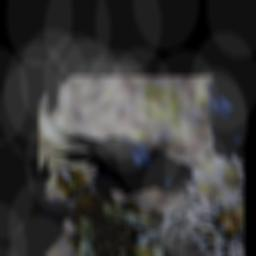Crow: (49, 94, 207, 241)
